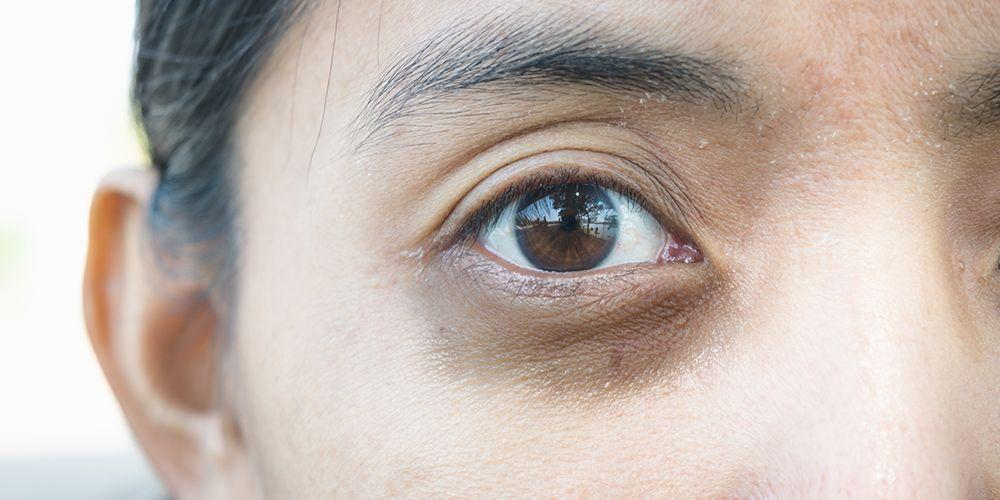Eyebags: (405, 216, 742, 417)
